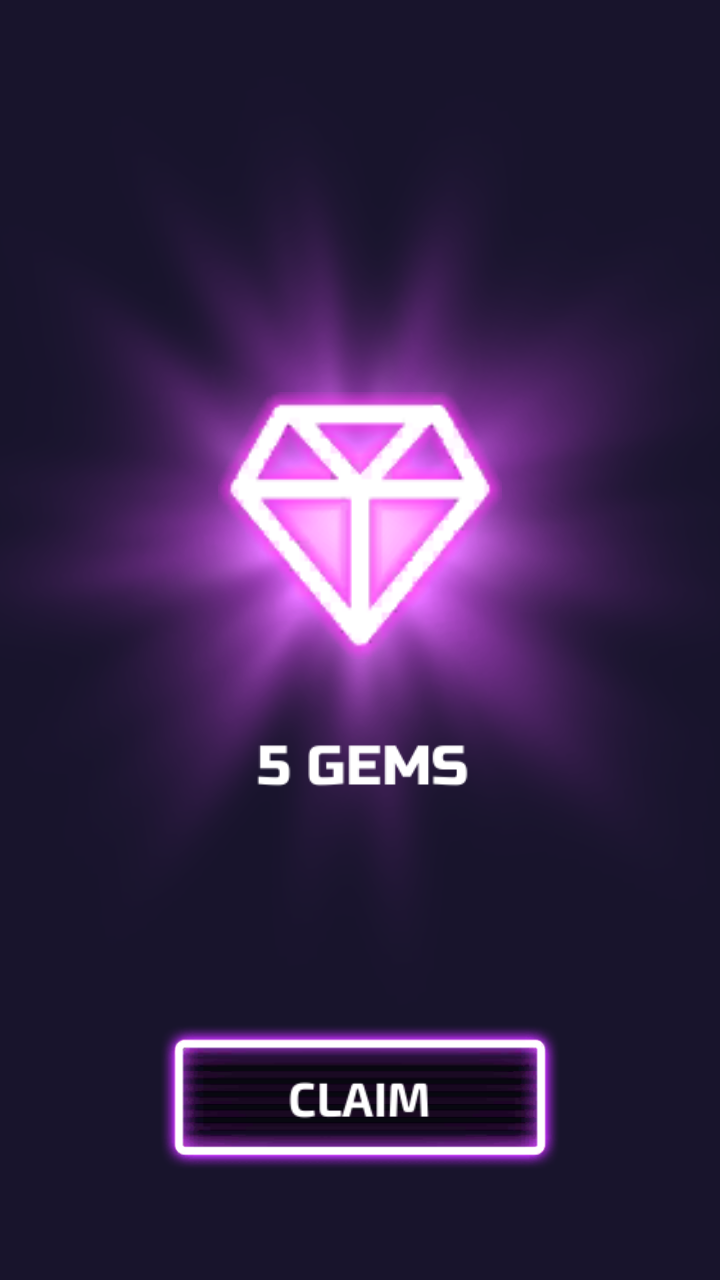GA_Claim_Gems: (163, 344, 566, 1173)
